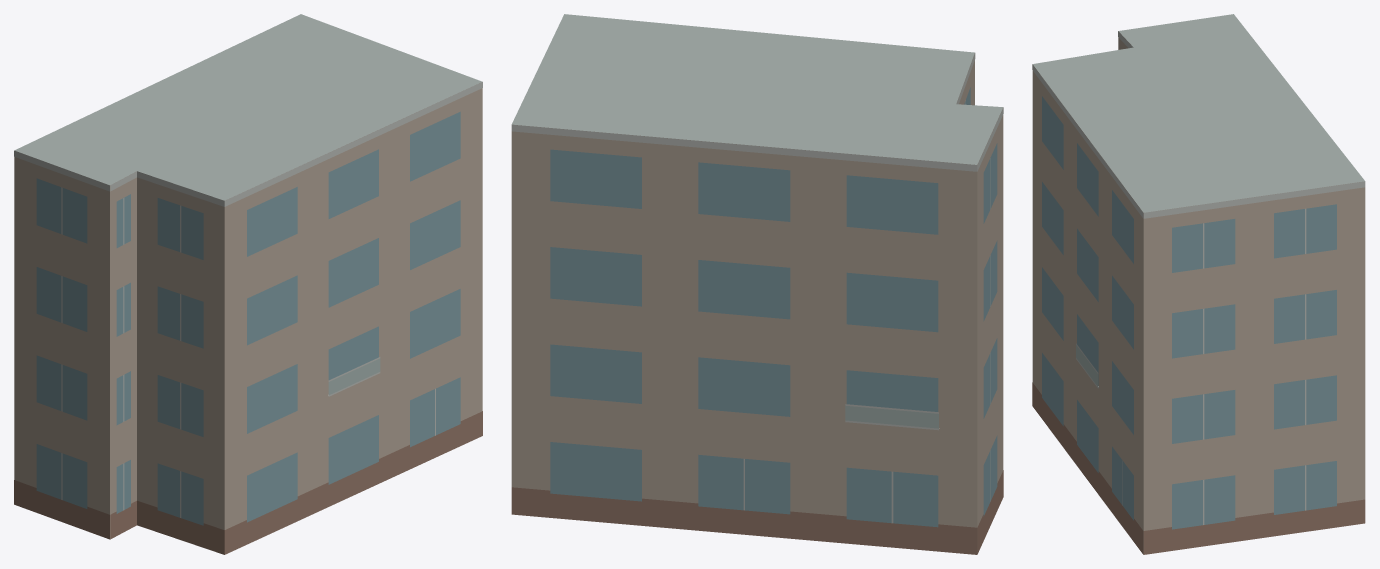
Rendered from survey-upis-32738113.glb.
The picture shows the model from 3 angles, left to right: view 1: azimuth 30°, elevation 25°; view 2: azimuth 150°, elevation 25°; view 3: azimuth 270°, elevation 25°; orthographic projection. The views are drawn at different scales.
Visible parts, largest first — view 1: survey-upis-32738113.tmp; view 2: survey-upis-32738113.tmp; view 3: survey-upis-32738113.tmp.
Boxes of the visible parts, left/top/right/bottom form: survey-upis-32738113.tmp: left=14, top=14, right=482, bottom=554; survey-upis-32738113.tmp: left=511, top=14, right=1003, bottom=554; survey-upis-32738113.tmp: left=1032, top=14, right=1365, bottom=554.
Size of the model in its own units: 17.28 by 13.85 by 12.22.
